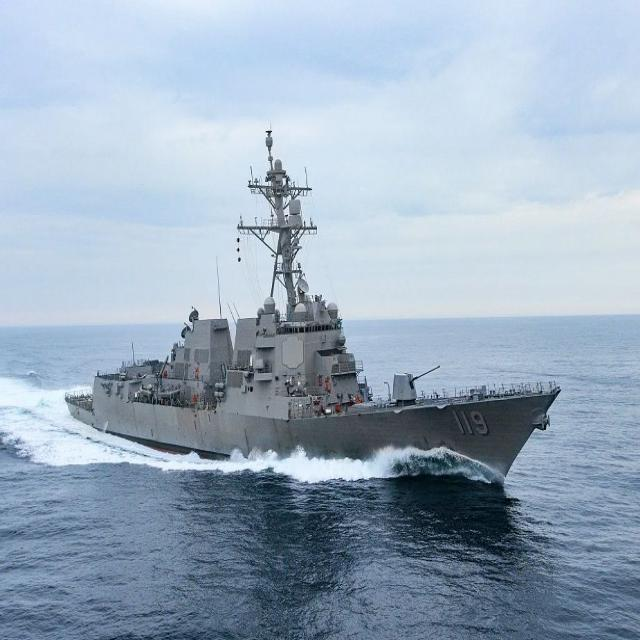navalvessels: (63, 94, 554, 515)
